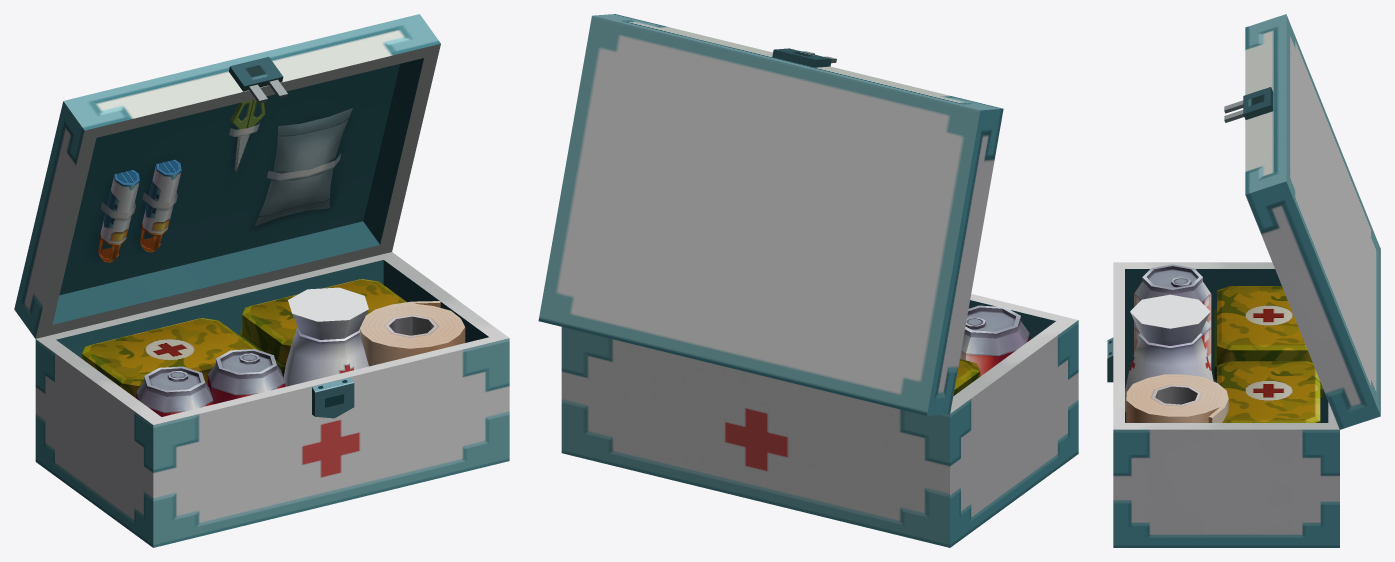
Rendered from Healing_MedKit_Base_0_Mod.FBX.
3 views of the same model, side by side, from view 1: azimuth 30°, elevation 25°; view 2: azimuth 150°, elevation 25°; view 3: azimuth 270°, elevation 25° (orthographic). The views are drawn at different scales.
Visible parts, largest first — view 1: Healing_MedKit_Base_0_Mod; view 2: Healing_MedKit_Base_0_Mod; view 3: Healing_MedKit_Base_0_Mod.
Boxes of the visible parts, box(x1,y1,x2,y2) form: Healing_MedKit_Base_0_Mod: box(14, 14, 509, 547); Healing_MedKit_Base_0_Mod: box(538, 14, 1078, 547); Healing_MedKit_Base_0_Mod: box(1107, 14, 1380, 547).
Size of the model in its own units: 63.81 by 65.51 by 44.1.
